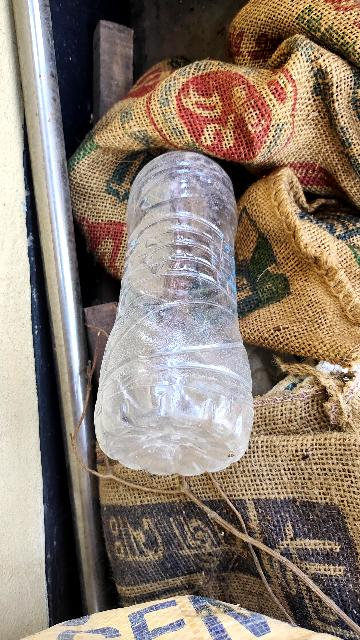bottle: (85, 156, 293, 475)
